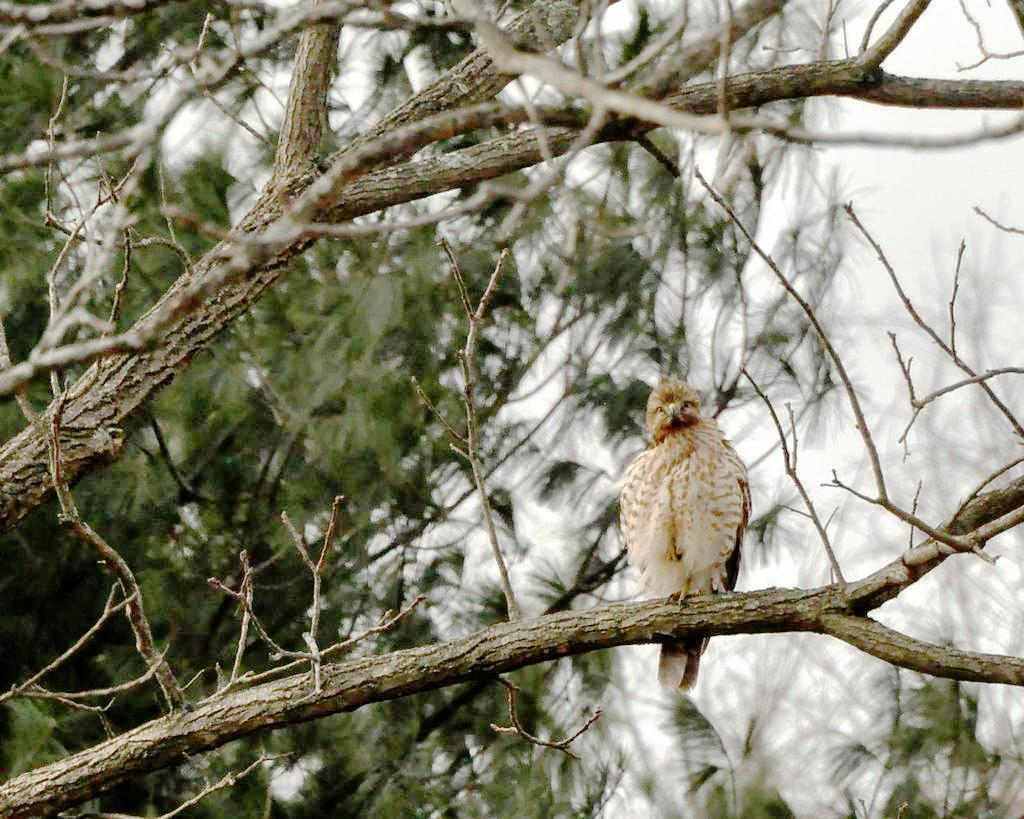Owl: (620, 383, 758, 685)
